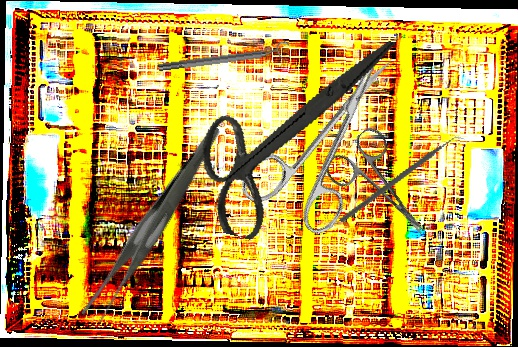Chopper: (339, 106, 468, 255)
Dressing Forceps: (40, 125, 269, 329)
Fixation Ring: (157, 40, 291, 77)
Iris Scissors: (180, 1, 400, 264), (235, 29, 430, 248), (320, 123, 447, 256)
